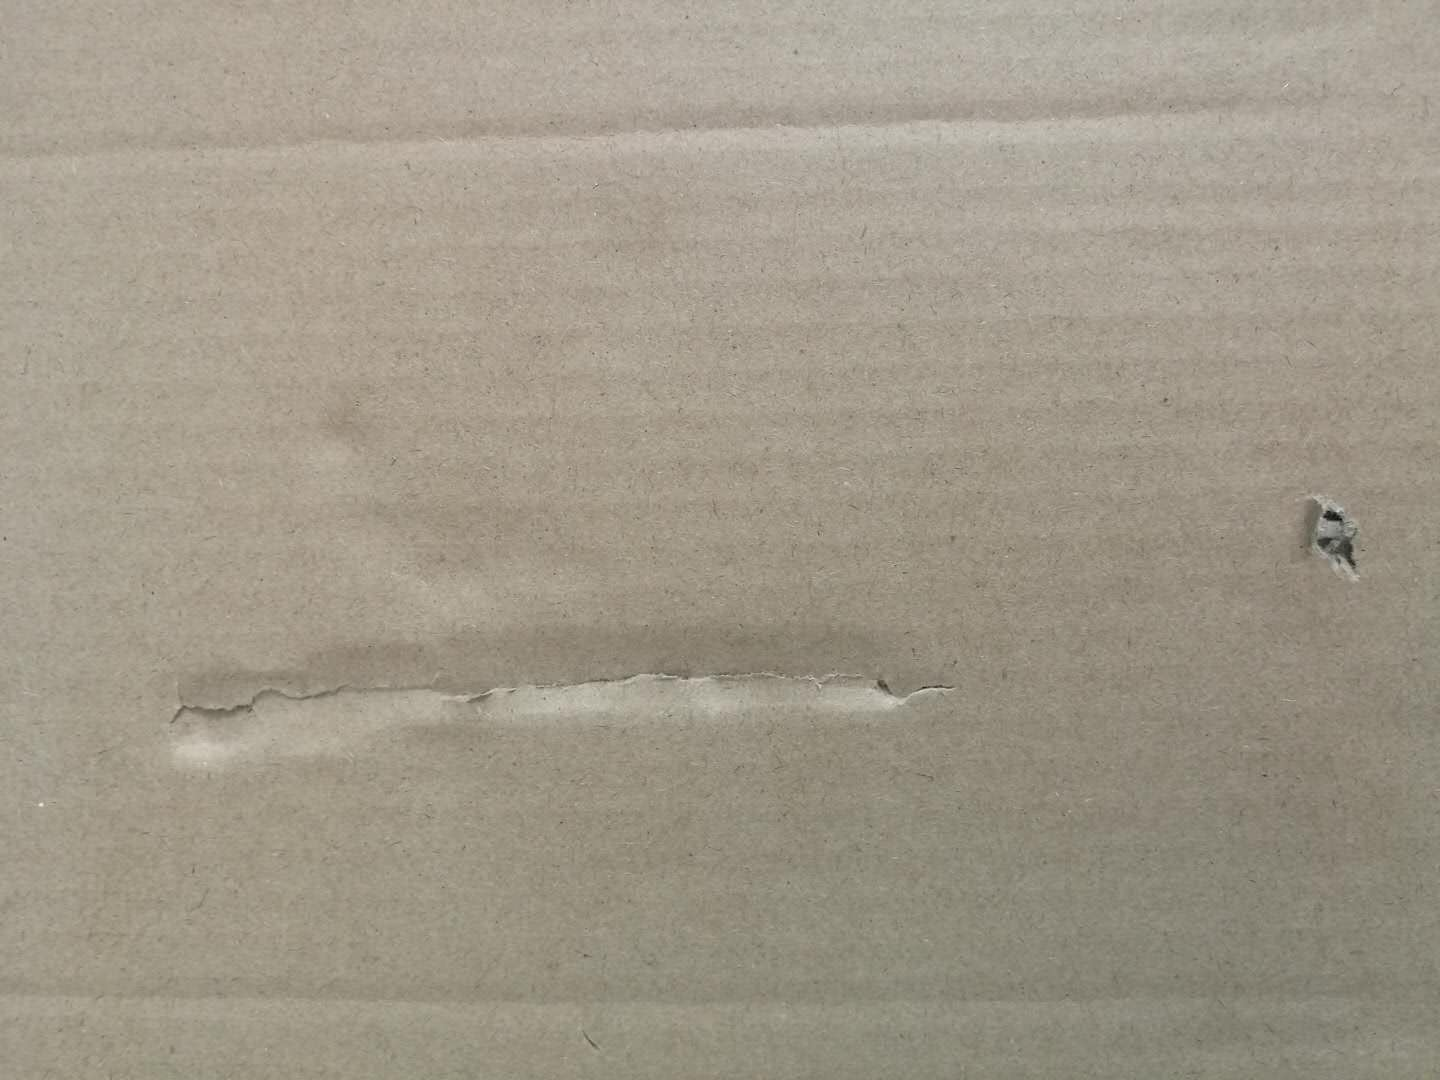defect: (2, 64, 1440, 183), (144, 585, 991, 757), (302, 378, 622, 589), (1286, 474, 1379, 590)
